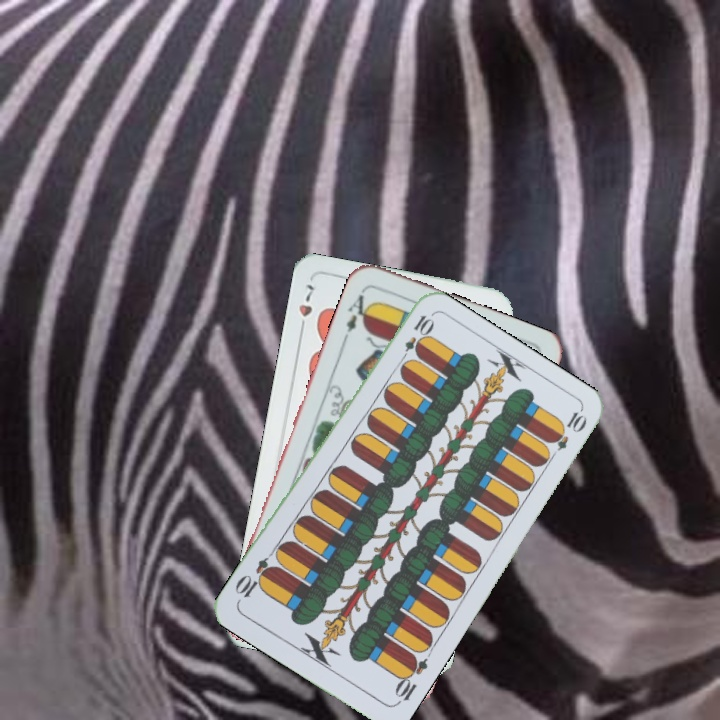E10: (390, 650, 430, 708), (396, 311, 435, 366)
EA: (340, 285, 375, 342)
H7: (294, 280, 317, 337)
